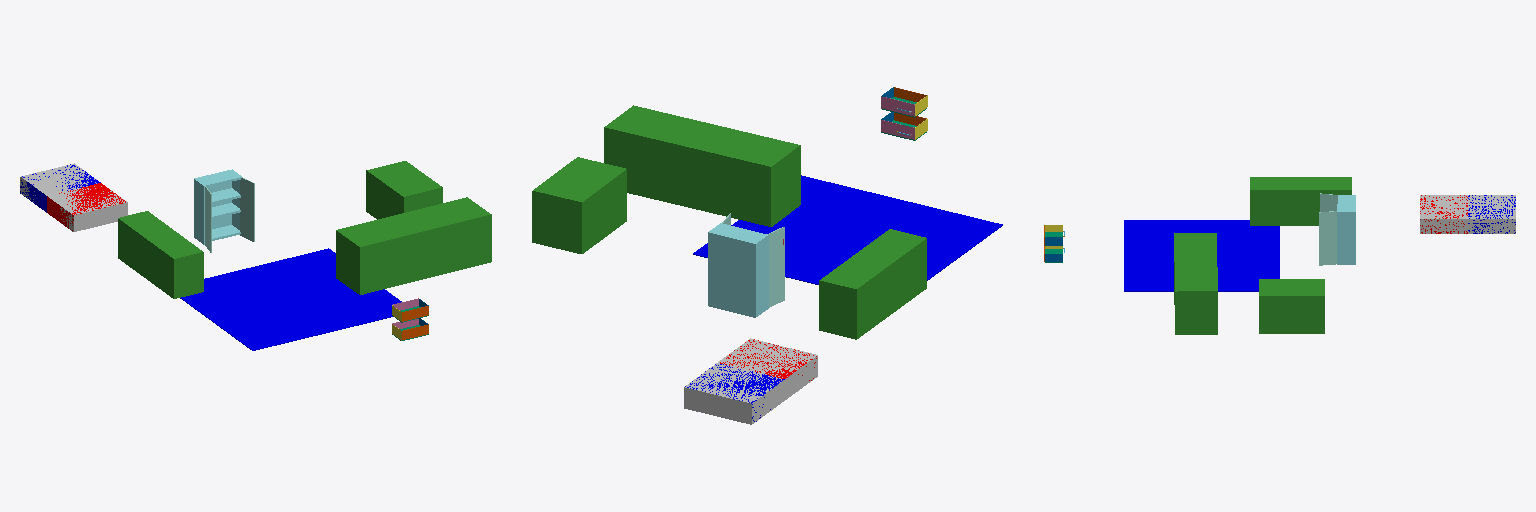
--- Facts derived from the render (not from the file) ---
The picture shows the robot from 3 angles, left to right: view 1: azimuth 30°, elevation 25°; view 2: azimuth 150°, elevation 25°; view 3: azimuth 270°, elevation 25°; orthographic projection.
Robot: iai-kitchen — 52 links, 51 joints (3 revolute, 2 prismatic, 46 fixed); root link urdf_main; default pose: every joint at zero.
Links seen in each view (by area): view 1: iai_kitchen:kitchen:room_center_link, table_kitchen_counter:table:table_center, popcorn_table:table:table_center, long_table:table:table_center, suturo_couch:couch:place1, suturo_couch:couch:place2, shelf:shelf:shelf_door_right, shelf:shelf:shelf_left_side, suturo_couch:couch:place3; view 2: table_kitchen_counter:table:table_center, iai_kitchen:kitchen:room_center_link, popcorn_table:table:table_center, long_table:table:table_center, suturo_couch:couch:place1, shelf:shelf:shelf_back, shelf:shelf:shelf_door_left, shelf:shelf:shelf_left_side, suturo_couch:couch:place3, suturo_couch:couch:place2, shelf:shelf:shelf_floor_3; view 3: iai_kitchen:kitchen:room_center_link, table_kitchen_counter:table:table_center, popcorn_table:table:table_center, long_table:table:table_center, suturo_couch:couch:place1, shelf:shelf:shelf_door_right, shelf:shelf:shelf_right_side.
Boxes of the visible links, <box> form: iai_kitchen:kitchen:room_center_link: <box>180,248,401,350</box>; table_kitchen_counter:table:table_center: <box>336,197,491,294</box>; popcorn_table:table:table_center: <box>118,211,203,298</box>; long_table:table:table_center: <box>366,161,442,219</box>; suturo_couch:couch:place1: <box>20,163,127,231</box>; suturo_couch:couch:place2: <box>47,183,125,230</box>; shelf:shelf:shelf_door_right: <box>240,177,254,241</box>; shelf:shelf:shelf_left_side: <box>194,179,204,244</box>; suturo_couch:couch:place3: <box>20,164,100,212</box>; table_kitchen_counter:table:table_center: <box>604,105,800,226</box>; iai_kitchen:kitchen:room_center_link: <box>693,175,1002,284</box>; popcorn_table:table:table_center: <box>819,229,926,339</box>; long_table:table:table_center: <box>532,157,626,253</box>; suturo_couch:couch:place1: <box>684,338,817,424</box>; shelf:shelf:shelf_back: <box>708,232,755,317</box>; shelf:shelf:shelf_door_left: <box>767,227,784,307</box>; shelf:shelf:shelf_left_side: <box>755,235,768,316</box>; suturo_couch:couch:place3: <box>685,364,784,421</box>; suturo_couch:couch:place2: <box>720,339,816,380</box>; shelf:shelf:shelf_floor_3: <box>710,223,768,245</box>; iai_kitchen:kitchen:room_center_link: <box>1124,220,1279,291</box>; table_kitchen_counter:table:table_center: <box>1174,233,1217,334</box>; popcorn_table:table:table_center: <box>1250,177,1351,225</box>; long_table:table:table_center: <box>1259,279,1324,333</box>; suturo_couch:couch:place1: <box>1420,195,1515,233</box>; shelf:shelf:shelf_door_right: <box>1319,211,1336,265</box>; shelf:shelf:shelf_right_side: <box>1337,211,1354,264</box>.
Bounding box of the posed robot: 5.23 × 8.35 × 1.09 m (x, y, z).
Meshes: 3 distinct files referenced, 0 mesh visuals loaded (none loaded); not drawn: 3 (reference not matched to a file when rendering).

URDF robot description (iai-kitchen):
<?xml version="1.0" ?>
<robot name="iai-kitchen" version="1.0">
  <material name="table_grey">
    <color rgba="0.255 0.62 0.223 1.0"/>
  </material>
  <material name="color_grey">
    <color rgba="0.8 0.8 0.8 1.0"/>
  </material>
  <material name="color_red">
    <color rgba="1.0 0.0 0.0 1.0"/>
  </material>
  <material name="color_blue">
    <color rgba="0.0 0.0 1.0 1.0"/>
  </material>
  <material name="round_table_grey">
    <color rgba="0.8 0.8 0.8 1.0"/>
  </material>
  <material name="wall_red">
    <color rgba="0.75 0.22 0.17 1.0"/>
  </material>
  <material name="shelf_blue">
    <color rgba="0.59 0.88 0.9 1.0"/>
  </material>
  <material name="shelf_door_green">
    <color rgba="0.64 0.87 0.82 1.0"/>
  </material>
  <material name="shelf_openable_handle_red">
    <color rgba="0.74 0.25 0.25 1.0"/>
  </material>
  <material name="door_green">
    <color rgba="0.0 0.31 0.22 1.0"/>
  </material>
  <material name="hinge_red">
    <color rgba="0.74 0.25 0.25 1.0"/>
  </material>
  <material name="handle_blue">
    <color rgba="0.3 0.5 0.78 1.0"/>
  </material>
  <material name="bucket_grey">
    <color rgba="0.8 0.8 0.8 1.0"/>
  </material>
  <material name="white">
    <color rgba="1.0 1.0 1.0 1.0"/>
  </material>
  <material name="orange">
    <color rgba="1.0 0.7 0.0 1.0"/>
  </material>
  <material name="handle_white">
    <color rgba="1.0 1.0 1.0 1.0"/>
  </material>
  <material name="bottom_white">
    <color rgba="1.0 1.0 1.0 1.0"/>
  </material>
  <material name="frame_wood">
    <color rgba="0.68 0.63 0.47 1.0"/>
  </material>
  <material name="handle_grey">
    <color rgba="0.7 0.7 0.7 1.0"/>
  </material>
  <link name="table_kitchen_counter:table:table_center">
    <visual>
      <origin xyz="0.0 0.0 -0.425" rpy="0.0 0.0 0.0"/>
      <geometry>
        <box size="0.76 2.45 0.85"/>
      </geometry>
      <material name="table_grey"/>
    </visual>
    <collision>
      <origin xyz="0.0 0.0 -0.425" rpy="0.0 0.0 0.0"/>
      <geometry>
        <box size="0.76 2.45 0.85"/>
      </geometry>
    </collision>
  </link>
  <link name="table_kitchen_counter:table:table_origin"/>
  <link name="table_kitchen_counter:table:table_front_edge_center"/>
  <joint name="table_kitchen_counter:table:table_origin_joint" type="fixed">
    <origin xyz="3.08 0.8 0.0" rpy="0.0 0.0 -1.56"/>
    <parent link="urdf_offset"/>
    <child link="table_kitchen_counter:table:table_origin"/>
  </joint>
  <joint name="table_kitchen_counter:table:center_joint" type="fixed">
    <origin xyz="0.38 1.225 0.85" rpy="0.0 0.0 0.0"/>
    <parent link="table_kitchen_counter:table:table_origin"/>
    <child link="table_kitchen_counter:table:table_center"/>
  </joint>
  <joint name="table_kitchen_counter:table:table_front_edge_center_joint" type="fixed">
    <origin xyz="0.0 1.225 0.85" rpy="0.0 0.0 0.0"/>
    <parent link="table_kitchen_counter:table:table_origin"/>
    <child link="table_kitchen_counter:table:table_front_edge_center"/>
  </joint>
  <link name="long_table:table:table_center">
    <visual>
      <origin xyz="0.0 0.0 -0.3675" rpy="0.0 0.0 0.0"/>
      <geometry>
        <box size="0.73 1.17 0.735"/>
      </geometry>
      <material name="table_grey"/>
    </visual>
    <collision>
      <origin xyz="0.0 0.0 -0.3675" rpy="0.0 0.0 0.0"/>
      <geometry>
        <box size="0.73 1.17 0.735"/>
      </geometry>
    </collision>
  </link>
  <link name="long_table:table:table_origin"/>
  <link name="long_table:table:table_front_edge_center"/>
  <joint name="long_table:table:table_origin_joint" type="fixed">
    <origin xyz="5.49 2.73 0.0" rpy="0.0 0.0 3.15"/>
    <parent link="urdf_offset"/>
    <child link="long_table:table:table_origin"/>
  </joint>
  <joint name="long_table:table:center_joint" type="fixed">
    <origin xyz="0.365 0.585 0.735" rpy="0.0 0.0 0.0"/>
    <parent link="long_table:table:table_origin"/>
    <child link="long_table:table:table_center"/>
  </joint>
  <joint name="long_table:table:table_front_edge_center_joint" type="fixed">
    <origin xyz="0.0 0.585 0.735" rpy="0.0 0.0 0.0"/>
    <parent link="long_table:table:table_origin"/>
    <child link="long_table:table:table_front_edge_center"/>
  </joint>
  <link name="popcorn_table:table:table_center">
    <visual>
      <origin xyz="0.0 0.0 -0.355" rpy="0.0 0.0 0.0"/>
      <geometry>
        <box size="0.55 1.8 0.71"/>
      </geometry>
      <material name="table_grey"/>
    </visual>
    <collision>
      <origin xyz="0.0 0.0 -0.355" rpy="0.0 0.0 0.0"/>
      <geometry>
        <box size="0.55 1.8 0.71"/>
      </geometry>
    </collision>
  </link>
  <link name="popcorn_table:table:table_origin"/>
  <link name="popcorn_table:table:table_front_edge_center"/>
  <joint name="popcorn_table:table:table_origin_joint" type="fixed">
    <origin xyz="0.435 1.4 0.0" rpy="0.0 0.0 0.0"/>
    <parent link="urdf_offset"/>
    <child link="popcorn_table:table:table_origin"/>
  </joint>
  <joint name="popcorn_table:table:center_joint" type="fixed">
    <origin xyz="0.275 0.9 0.71" rpy="0.0 0.0 0.0"/>
    <parent link="popcorn_table:table:table_origin"/>
    <child link="popcorn_table:table:table_center"/>
  </joint>
  <joint name="popcorn_table:table:table_front_edge_center_joint" type="fixed">
    <origin xyz="0.0 0.9 0.71" rpy="0.0 0.0 0.0"/>
    <parent link="popcorn_table:table:table_origin"/>
    <child link="popcorn_table:table:table_front_edge_center"/>
  </joint>
  <link name="suturo_couch:couch:place1">
    <visual>
      <origin xyz="0.0 0.0 0.15" rpy="0.0 0.0 0.0"/>
      <geometry>
        <box size="1.0 1.7 0.3"/>
      </geometry>
      <material name="color_grey"/>
    </visual>
    <collision>
      <origin xyz="0.0 0.0 0.0" rpy="0.0 0.0 0.0"/>
      <geometry>
        <box size="1.0 1.7 0.3"/>
      </geometry>
    </collision>
  </link>
  <link name="suturo_couch:couch:place2">
    <visual>
      <origin xyz="0.0 -0.425 0.15" rpy="0.0 0.0 0.0"/>
      <geometry>
        <box size="1.0 0.85 0.3"/>
      </geometry>
      <material name="color_red"/>
    </visual>
    <collision>
      <origin xyz="0.0 0.0 0.0" rpy="0.0 0.0 0.0"/>
      <geometry>
        <box size="1.0 1.7 0.3"/>
      </geometry>
    </collision>
  </link>
  <link name="suturo_couch:couch:place3">
    <visual>
      <origin xyz="0.0 0.425 0.15" rpy="0.0 0.0 0.0"/>
      <geometry>
        <box size="1.0 0.85 0.3"/>
      </geometry>
      <material name="color_blue"/>
    </visual>
    <collision>
      <origin xyz="0.0 0.0 -0.15" rpy="0.0 0.0 0.0"/>
      <geometry>
        <box size="1.0 1.7 0.3"/>
      </geometry>
    </collision>
  </link>
  <joint name="suturo_couch:couch:couch_origin_joint" type="fixed">
    <origin xyz="0.81 5.25 0.0" rpy="0.0 0.0 0.0"/>
    <parent link="urdf_offset"/>
    <child link="suturo_couch:couch:place1"/>
  </joint>
  <joint name="suturo_couch:couch:couch_left_joint" type="fixed">
    <origin xyz="0.0 0.0 0.0" rpy="0.0 0.0 0.0"/>
    <parent link="suturo_couch:couch:place1"/>
    <child link="suturo_couch:couch:place2"/>
  </joint>
  <joint name="suturo_couch:couch:couch_right_joint" type="fixed">
    <origin xyz="0.0 0.0 0.0" rpy="0.0 0.0 0.0"/>
    <parent link="suturo_couch:couch:place1"/>
    <child link="suturo_couch:couch:place3"/>
  </joint>
  <link name="shelf:shelf:shelf_origin"/>
  <link name="shelf:shelf:shelf_center"/>
  <link name="shelf:shelf:shelf_base_center"/>
  <joint name="shelf:shelf:shelf_origin_joint" type="fixed">
    <origin xyz="2.59 2.94 0.0" rpy="0.0 0.0 1.56"/>
    <parent link="urdf_offset"/>
    <child link="shelf:shelf:shelf_origin"/>
  </joint>
  <joint name="shelf:shelf:shelf_center_joint" type="fixed">
    <origin xyz="0.16 0.355 0.52" rpy="0.0 0.0 0.0"/>
    <parent link="shelf:shelf:shelf_origin"/>
    <child link="shelf:shelf:shelf_center"/>
  </joint>
  <joint name="shelf:shelf:shelf_base_center_joint" type="fixed">
    <origin xyz="0.16 0.355 0.0" rpy="0.0 0.0 0.0"/>
    <parent link="shelf:shelf:shelf_origin"/>
    <child link="shelf:shelf:shelf_base_center"/>
  </joint>
  <link name="shelf:shelf:shelf_back">
    <visual>
      <origin xyz="0.0 0.0 0.0" rpy="0.0 0.0 0.0"/>
      <geometry>
        <box size="0.015 0.71 1.04"/>
      </geometry>
      <material name="shelf_blue"/>
    </visual>
    <collision>
      <origin xyz="0.0 0.0 0.0" rpy="0.0 0.0 0.0"/>
      <geometry>
        <box size="0.015 0.71 1.04"/>
      </geometry>
    </collision>
  </link>
  <joint name="shelf:shelf:shelf_back:joint" type="fixed">
    <origin xyz="0.32 0.355 0.52" rpy="0.0 0.0 0.0"/>
    <parent link="shelf:shelf:shelf_origin"/>
    <child link="shelf:shelf:shelf_back"/>
  </joint>
  <link name="shelf:shelf:shelf_right_side">
    <visual>
      <origin xyz="0.0 0.0 0.0" rpy="0.0 0.0 0.0"/>
      <geometry>
        <box size="0.32 0.015 1.04"/>
      </geometry>
      <material name="shelf_blue"/>
    </visual>
    <collision>
      <origin xyz="0.0 0.0 0.0" rpy="0.0 0.0 0.0"/>
      <geometry>
        <box size="0.32 0.015 1.04"/>
      </geometry>
    </collision>
  </link>
  <joint name="shelf:shelf:shelf_right_side:joint" type="fixed">
    <origin xyz="0.16 0.0075 0.52" rpy="0.0 0.0 0.0"/>
    <parent link="shelf:shelf:shelf_origin"/>
    <child link="shelf:shelf:shelf_right_side"/>
  </joint>
  <link name="shelf:shelf:shelf_left_side">
    <visual>
      <origin xyz="0.0 0.0 0.0" rpy="0.0 0.0 0.0"/>
      <geometry>
        <box size="0.32 0.015 1.04"/>
      </geometry>
      <material name="shelf_blue"/>
    </visual>
    <collision>
      <origin xyz="0.0 0.0 0.0" rpy="0.0 0.0 0.0"/>
      <geometry>
        <box size="0.32 0.015 1.04"/>
      </geometry>
    </collision>
  </link>
  <joint name="shelf:shelf:shelf_left_side:joint" type="fixed">
    <origin xyz="0.16 0.7025 0.52" rpy="0.0 0.0 0.0"/>
    <parent link="shelf:shelf:shelf_origin"/>
    <child link="shelf:shelf:shelf_left_side"/>
  </joint>
  <link name="shelf:shelf:shelf_floor_0">
    <visual>
      <origin xyz="0.0 0.0 -0.02" rpy="0.0 0.0 0.0"/>
      <geometry>
        <box size="0.32 0.71 0.04"/>
      </geometry>
      <material name="shelf_blue"/>
    </visual>
    <collision>
      <origin xyz="0.0 0.0 -0.02" rpy="0.0 0.0 0.0"/>
      <geometry>
        <box size="0.32 0.71 0.04"/>
      </geometry>
    </collision>
  </link>
  <joint name="shelf:shelf:shelf_floor_0:joint" type="fixed">
    <origin xyz="0.0 0.0 0.07" rpy="0.0 0.0 0.0"/>
    <parent link="shelf:shelf:shelf_base_center"/>
    <child link="shelf:shelf:shelf_floor_0"/>
  </joint>
  <link name="shelf:shelf:shelf_floor_1">
    <visual>
      <origin xyz="0.0 0.0 -0.02" rpy="0.0 0.0 0.0"/>
      <geometry>
        <box size="0.32 0.71 0.04"/>
      </geometry>
      <material name="shelf_blue"/>
    </visual>
    <collision>
      <origin xyz="0.0 0.0 -0.02" rpy="0.0 0.0 0.0"/>
      <geometry>
        <box size="0.32 0.71 0.04"/>
      </geometry>
    </collision>
  </link>
  <joint name="shelf:shelf:shelf_floor_1:joint" type="fixed">
    <origin xyz="0.0 0.0 0.46" rpy="0.0 0.0 0.0"/>
    <parent link="shelf:shelf:shelf_base_center"/>
    <child link="shelf:shelf:shelf_floor_1"/>
  </joint>
  <link name="shelf:shelf:shelf_floor_2">
    <visual>
      <origin xyz="0.0 0.0 -0.02" rpy="0.0 0.0 0.0"/>
      <geometry>
        <box size="0.32 0.71 0.04"/>
      </geometry>
      <material name="shelf_blue"/>
    </visual>
    <collision>
      <origin xyz="0.0 0.0 -0.02" rpy="0.0 0.0 0.0"/>
      <geometry>
        <box size="0.32 0.71 0.04"/>
      </geometry>
    </collision>
  </link>
  <joint name="shelf:shelf:shelf_floor_2:joint" type="fixed">
    <origin xyz="0.0 0.0 0.72" rpy="0.0 0.0 0.0"/>
    <parent link="shelf:shelf:shelf_base_center"/>
    <child link="shelf:shelf:shelf_floor_2"/>
  </joint>
  <link name="shelf:shelf:shelf_floor_3">
    <visual>
      <origin xyz="0.0 0.0 -0.02" rpy="0.0 0.0 0.0"/>
      <geometry>
        <box size="0.32 0.71 0.04"/>
      </geometry>
      <material name="shelf_blue"/>
    </visual>
    <collision>
      <origin xyz="0.0 0.0 -0.02" rpy="0.0 0.0 0.0"/>
      <geometry>
        <box size="0.32 0.71 0.04"/>
      </geometry>
    </collision>
  </link>
  <joint name="shelf:shelf:shelf_floor_3:joint" type="fixed">
    <origin xyz="0.0 0.0 1.04" rpy="0.0 0.0 0.0"/>
    <parent link="shelf:shelf:shelf_base_center"/>
    <child link="shelf:shelf:shelf_floor_3"/>
  </joint>
  <link name="shelf:shelf:shelf_door_right">
    <visual>
      <origin xyz="0.0 0.16249999999999998 0.0" rpy="0.0 0.0 0.0"/>
      <geometry>
        <box size="0.015 0.33999999999999997 1.04"/>
      </geometry>
      <material name="shelf_door_green"/>
    </visual>
    <collision>
      <origin xyz="0.0 0.16249999999999998 0.0" rpy="0.0 0.0 0.0"/>
      <geometry>
        <box size="0.015 0.33999999999999997 1.04"/>
      </geometry>
    </collision>
  </link>
  <link name="shelf:shelf:shelf_door_right:handle">
    <visual>
      <origin xyz="0.0 0.0 0.0" rpy="0.0 0.0 0.0"/>
      <geometry>
        <box size="0.0 0.01 0.084"/>
      </geometry>
      <material name="shelf_openable_handle_red"/>
    </visual>
    <collision>
      <origin xyz="0.0 0.0 0.0" rpy="0.0 0.0 0.0"/>
      <geometry>
        <box size="0.0 0.01 0.084"/>
      </geometry>
    </collision>
  </link>
  <joint name="shelf:shelf:shelf_door_right:handle_joint" type="fixed">
    <origin xyz="-0.015 0.305 0.317" rpy="0.0 0.0 0.0"/>
    <axis xyz="0.0 0.0 1.0"/>
    <parent link="shelf:shelf:shelf_door_right"/>
    <child link="shelf:shelf:shelf_door_right:handle"/>
  </joint>
  <joint name="shelf:shelf:shelf_door_right:joint" type="revolute">
    <origin xyz="-0.1525 0.015 0.0" rpy="0.0 0.0 1.77"/>
    <axis xyz="0.0 0.0 1.0"/>
    <parent link="shelf:shelf:shelf_right_side"/>
    <child link="shelf:shelf:shelf_door_right"/>
    <limit effort="30.0" lower="0.0" upper="1.7" velocity="1.0"/>
  </joint>
  <link name="shelf:shelf:shelf_door_left">
    <visual>
      <origin xyz="0.0 -0.16249999999999998 0.0" rpy="0.0 0.0 0.0"/>
      <geometry>
        <box size="0.015 0.33999999999999997 1.04"/>
      </geometry>
      <material name="shelf_door_green"/>
    </visual>
    <collision>
      <origin xyz="0.0 -0.16249999999999998 0.0" rpy="0.0 0.0 0.0"/>
      <geometry>
        <box size="0.015 0.33999999999999997 1.04"/>
      </geometry>
    </collision>
  </link>
  <link name="shelf:shelf:shelf_door_left:handle">
    <visual>
      <origin xyz="0.0 0.0 0.0" rpy="0.0 0.0 0.0"/>
      <geometry>
        <box size="0.0 0.01 0.084"/>
      </geometry>
      <material name="shelf_openable_handle_red"/>
    </visual>
    <collision>
      <origin xyz="0.0 0.0 0.0" rpy="0.0 0.0 0.0"/>
      <geometry>
        <box size="0.0 0.01 0.084"/>
      </geometry>
    </collision>
  </link>
  <joint name="shelf:shelf:shelf_door_left:handle_joint" type="fixed">
    <origin xyz="-0.015 -0.305 0.317" rpy="0.0 0.0 0.0"/>
    <axis xyz="0.0 0.0 1.0"/>
    <parent link="shelf:shelf:shelf_door_left"/>
    <child link="shelf:shelf:shelf_door_left:handle"/>
  </joint>
  <joint name="shelf:shelf:shelf_door_left:joint" type="revolute">
    <origin xyz="-0.1525 -0.015 0.0" rpy="0.0 0.0 -1.77"/>
    <axis xyz="0.0 0.0 1.0"/>
    <parent link="shelf:shelf:shelf_left_side"/>
    <child link="shelf:shelf:shelf_door_left"/>
    <limit effort="30.0" lower="-1.7" upper="0.0" velocity="1.0"/>
  </joint>
  <joint name="world_iai_kitchen:kitchen:room_joint" type="fixed">
    <origin xyz="2.1 0.54 -0.05" rpy="0.0 0.0 0.0"/>
    <parent link="urdf_offset"/>
    <child link="iai_kitchen:kitchen:room_center_link"/>
  </joint>
  <link name="iai_kitchen:kitchen:room_center_link">
    <visual>
      <geometry>
        <box size="3.0 2.75 0.01"/>
      </geometry>
      <material name="iai_kitchen:kitchen:color">
        <color rgba="0.0 0.0 1.0 0.5"/>
      </material>
    </visual>
    <collision>
      <geometry>
        <box size="3.0 2.75 0.01"/>
      </geometry>
    </collision>
  </link>
  <joint name="room_kitchen_entry_exit:entry_exit:connection_joint" type="fixed">
    <origin xyz="-1.4000000000000001 -0.45000000000000007 0.0" rpy="0.0 0.0 0.0"/>
    <parent link="iai_kitchen:kitchen:room_center_link"/>
    <child link="kitchen_entry_exit:entry_exit:link"/>
  </joint>
  <link name="kitchen_entry_exit:entry_exit:link"/>
  <joint name="world_arena:arena:room_joint" type="fixed">
    <origin xyz="2.1 0.54 -0.05" rpy="0.0 0.0 0.0"/>
    <parent link="urdf_offset"/>
    <child link="arena:arena:room_center_link"/>
  </joint>
  <link name="arena:arena:room_center_link">
    <visual>
      <geometry>
        <box size="3.0 2.75 0.01"/>
      </geometry>
      <material name="arena:arena:color">
        <color rgba="1.0 0.0 0.0 0.1"/>
      </material>
    </visual>
    <collision>
      <geometry>
        <box size="3.0 2.75 0.01"/>
      </geometry>
    </collision>
  </link>
  <joint name="room_arena_entry_exit:entry_exit:connection_joint" type="fixed">
    <origin xyz="-1.4000000000000001 -0.45000000000000007 0.0" rpy="0.0 0.0 0.0"/>
    <parent link="arena:arena:room_center_link"/>
    <child link="arena_entry_exit:entry_exit:link"/>
  </joint>
  <link name="arena_entry_exit:entry_exit:link"/>
  <link name="dishwasher:dishwasher:dishwasher_main">
    <inertial>
      <origin xyz="0.0 0.0 0.0" rpy="0.0 0.0 0.0"/>
      <mass value="1.0"/>
      <inertia ixx="1.0" ixy="0.0" ixz="0.0" iyy="1.0" iyz="0.0" izz="1.0"/>
    </inertial>
    <visual>
      <origin xyz="0.0 0.0 0.148" rpy="0.0 0.0 3.141592653589793"/>
      <geometry>
        <mesh filename="package://iai_kitchen/meshes/misc/DishWasher.dae" scale="1.1 1.2 1.1"/>
      </geometry>
    </visual>
    <collision>
      <origin xyz="0.0 0.0 0.148" rpy="0.0 0.0 0.0"/>
      <geometry>
        <mesh filename="package://iai_kitchen/meshes/misc/DishWasher.obj" scale="1.1 1.2 1.1"/>
      </geometry>
    </collision>
  </link>
  <link name="dishwasher:dishwasher:dishwasher_door">
    <inertial>
      <origin xyz="0.0 0.0 0.0" rpy="0.0 0.0 0.0"/>
      <mass value="1.0"/>
      <inertia ixx="1.0" ixy="0.0" ixz="0.0" iyy="1.0" iyz="0.0" izz="1.0"/>
    </inertial>
    <visual>
      <origin xyz="0.0 -0.108 0.0" rpy="1.5707963267948966 0.0 0.0"/>
      <geometry>
        <mesh filename="package://iai_kitchen/meshes/misc/DishWasherDoor.dae"/>
      </geometry>
    </visual>
    <collision>
      <origin xyz="0.0 -0.108 0.0" rpy="1.5707963267948966 0.0 0.0"/>
      <geometry>
        <mesh filename="package://iai_kitchen/meshes/misc/DishWasherDoor.obj"/>
      </geometry>
    </collision>
  </link>
  <link name="dishwasher:dishwasher:dishwasher_door_handle">
    <inertial>
      <origin xyz="0.0 0.0 0.0" rpy="0.0 0.0 0.0"/>
      <mass value="1.0"/>
      <inertia ixx="1.0" ixy="0.0" ixz="0.0" iyy="1.0" iyz="0.0" izz="1.0"/>
    </inertial>
    <visual>
      <origin xyz="0.0 0.0 0.0" rpy="0.0 3.141592653589793 0.0"/>
      <geometry>
        <mesh filename="package://iai_kitchen/meshes/handles/Handle60.dae"/>
      </geometry>
    </visual>
    <collision>
      <origin xyz="0.0 0.0 0.0" rpy="0.0 3.141592653589793 0.0"/>
      <geometry>
        <mesh filename="package://iai_kitchen/meshes/handles/Handle60.obj"/>
      </geometry>
    </collision>
  </link>
  <link name="dishwasher:dishwasher:dishwasher_tab"/>
  <joint name="dishwasher:dishwasher:dishwasher_tab_joint" type="fixed">
    <origin xyz="0.18 -0.33 0.1775" rpy="0.0 0.0 0.0"/>
    <parent link="dishwasher:dishwasher:dishwasher_door"/>
    <child link="dishwasher:dishwasher:dishwasher_tab"/>
  </joint>
  <joint name="dishwasher:dishwasher:dishwasher_main_joint" type="fixed">
    <origin xyz="2.79 -2.17 0.33475" rpy="0.0 0.0 -1.5708"/>
    <parent link="urdf_offset"/>
    <child link="dishwasher:dishwasher:dishwasher_main"/>
  </joint>
  <joint name="dishwasher:dishwasher:dishwasher_door_joint" type="revolute">
    <origin xyz="-0.27 0.0 -0.285" rpy="-1.5707963267948966 0.0 0.0"/>
    <axis xyz="0.0 0.0 1.0"/>
    <parent link="dishwasher:dishwasher:dishwasher_main"/>
    <child link="dishwasher:dishwasher:dishwasher_door"/>
    <limit effort="300.0" lower="-1.5707963267948966" upper="0.0" velocity="10.0"/>
  </joint>
  <joint name="dishwasher:dishwasher:dishwasher_door_handle_joint" type="fixed">
    <origin xyz="-0.065 -0.728 0.0" rpy="1.5707963267948966 0.0 0.0"/>
    <parent link="dishwasher:dishwasher:dishwasher_door"/>
    <child link="dishwasher:dishwasher:dishwasher_door_handle"/>
  </joint>
  <joint name="dishwasher:dishwasher:dishwasher_tray_main" type="prismatic">
    <origin xyz="-0.08 0.0 0.26" rpy="0 0 0"/>
    <axis xyz="1.0 0.0 0.0"/>
    <parent link="dishwasher:dishwasher:dishwasher_main"/>
    <child link="dishwasher:dishwasher:dishwasher_tray_bottom"/>
    <limit effort="300.0" lower="-0.33" upper="0.0" velocity="10.0"/>
  </joint>
  <link name="dishwasher:dishwasher:dishwasher_tray_bottom">
    <visual>
      <geometry>
        <box size="0.32 0.5 0.05"/>
      </geometry>
    </visual>
    <collision>
      <geometry>
        <box size="0.32 0.5 0.05"/>
      </geometry>
    </collision>
  </link>
  <link name="dishwasher:dishwasher:dishwasher_tray_left_side">
    <visual>
      <geometry>
        <box size="0.32 0.005 0.17"/>
      </geometry>
    </visual>
    <collision>
      <geometry>
        <box size="0.32 0.005 0.17"/>
      </geometry>
    </collision>
  </link>
  <link name="dishwasher:dishwasher:dishwasher_tray_right_side">
    <visual>
      <geometry>
        <box size="0.32 0.005 0.17"/>
      </geometry>
    </visual>
    <collision>
      <geometry>
        <box size="0.32 0.005 0.17"/>
      </geometry>
    </collision>
  </link>
  <link name="dishwasher:dishwasher:dishwasher_tray_back_side">
    <visual>
      <geometry>
        <box size="0.005 0.5 0.17"/>
      </geometry>
    </visual>
    <collision>
      <geometry>
        <box size="0.005 0.5 0.17"/>
      </geometry>
    </collision>
  </link>
  <link name="dishwasher:dishwasher:dishwasher_tray_front_side">
    <visual>
      <geometry>
        <box size="0.005 0.5 0.17"/>
      </geometry>
    </visual>
    <collision>
      <geometry>
        <box size="0.005 0.5 0.17"/>
      </geometry>
    </collision>
  </link>
  <joint name="dishwasher:dishwasher:dishwasher_tray_bottom_left" type="fixed">
    <origin xyz="-0.0 -0.25 0.075" rpy="0 0 0"/>
    <parent link="dishwasher:dishwasher:dishwasher_tray_bottom"/>
    <child link="dishwasher:dishwasher:dishwasher_tray_left_side"/>
  </joint>
  <joint name="dishwasher:dishwasher:dishwasher_tray_bottom_right" type="fixed">
    <origin xyz="-0.0 0.25 0.075" rpy="0 0 0"/>
    <parent link="dishwasher:dishwasher:dishwasher_tray_bottom"/>
    <child link="dishwasher:dishwasher:dishwasher_tray_right_side"/>
  </joint>
  <joint name="dishwasher:dishwasher:dishwasher_tray_bottom_back" type="fixed">
    <origin xyz="0.16 0.0 0.075" rpy="0 0 0"/>
    <parent link="dishwasher:dishwasher:dishwasher_tray_bottom"/>
    <child link="dishwasher:dishwasher:dishwasher_tray_back_side"/>
  </joint>
  <joint name="dishwasher:dishwasher:dishwasher_tray_bottom_front" type="fixed">
    <origin xyz="-0.16 0.0 0.075" rpy="0.0 0.0 0.0"/>
    <parent link="dishwasher:dishwasher:dishwasher_tray_bottom"/>
    <child link="dishwasher:dishwasher:dishwasher_tray_front_side"/>
  </joint>
  <joint name="dishwasher:dishwasher:dishwasher_tray_handle_joint" type="fixed">
    <origin xyz="-0.03 -0.1 -0.02" rpy="0 0 0"/>
    <parent link="dishwasher:dishwasher:dishwasher_tray_front_side"/>
    <child link="dishwasher:dishwasher:dishwasher_tray_handle_front_side"/>
  </joint>
  <link name="dishwasher:dishwasher:dishwasher_tray_handle_left_side">
    <visual>
      <geometry>
        <box size="0.03 0.01 0.01"/>
      </geometry>
    </visual>
    <collision>
      <geometry>
        <box size="0.03 0.01 0.01"/>
      </geometry>
    </collision>
  </link>
  <link name="dishwasher:dishwasher:dishwasher_tray_handle_right_side">
    <visual>
      <geometry>
        <box size="0.03 0.01 0.01"/>
      </geometry>
    </visual>
    <collision>
      <geometry>
        <box size="0.03 0.01 0.01"/>
      </geometry>
    </collision>
  </link>
  <link name="dishwasher:dishwasher:dishwasher_tray_handle_front_side">
    <visual>
      <geometry>
        <box size="0.01 0.2 0.01"/>
      </geometry>
    </visual>
    <collision>
      <geometry>
        <box size="0.01 0.2 0.01"/>
      </geometry>
    </collision>
  </link>
  <joint name="dishwasher:dishwasher:dishwasher_tray_handle_front_left_joint" type="fixed">
    <origin xyz="0.01 -0.1 0.0" rpy="0 0 0"/>
    <parent link="dishwasher:dishwasher:dishwasher_tray_handle_front_side"/>
    <child link="dishwasher:dishwasher:dishwasher_tray_handle_left_side"/>
  </joint>
  <joint name="dishwasher:dishwasher:dishwasher_tray_handle_front_right_joint" type="fixed">
    <origin xyz="0.01 0.1 0.0" rpy="0 0 0"/>
    <parent link="dishwasher:dishwasher:dishwasher_tray_handle_front_side"/>
    <child link="dishwasher:dishwasher:dishwasher_tray_handle_right_side"/>
  </joint>
  <joint name="dishwasher:dishwasher:dishwasher_tray_2_main" type="prismatic">
    <origin xyz="-0.08 0.0 -0.07" rpy="0 0 0"/>
    <axis xyz="1.0 0.0 0.0"/>
    <parent link="dishwasher:dishwasher:dishwasher_main"/>
    <child link="dishwasher:dishwasher:dishwasher_tray_2_bottom"/>
    <limit effort="300.0" lower="-0.33" upper="0.0" velocity="10.0"/>
  </joint>
  <link name="dishwasher:dishwasher:dishwasher_tray_2_bottom">
    <visual>
      <geometry>
        <box size="0.32 0.5 0.05"/>
      </geometry>
    </visual>
    <collision>
      <geometry>
        <box size="0.32 0.5 0.05"/>
      </geometry>
    </collision>
  </link>
  <link name="dishwasher:dishwasher:dishwasher_tray_2_left_side">
    <visual>
      <geometry>
        <box size="0.32 0.005 0.17"/>
      </geometry>
    </visual>
    <collision>
      <geometry>
        <box size="0.32 0.005 0.17"/>
      </geometry>
    </collision>
  </link>
  <link name="dishwasher:dishwasher:dishwasher_tray_2_right_side">
    <visual>
      <geometry>
        <box size="0.32 0.005 0.17"/>
      </geometry>
    </visual>
    <collision>
      <geometry>
        <box size="0.32 0.005 0.17"/>
      </geometry>
    </collision>
  </link>
  <link name="dishwasher:dishwasher:dishwasher_tray_2_back_side">
    <visual>
      <geometry>
        <box size="0.005 0.5 0.17"/>
      </geometry>
    </visual>
    <collision>
      <geometry>
        <box size="0.005 0.5 0.17"/>
      </geometry>
    </collision>
  </link>
  <link name="dishwasher:dishwasher:dishwasher_tray_2_front_side">
    <visual>
      <geometry>
        <box size="0.005 0.5 0.17"/>
      </geometry>
    </visual>
    <collision>
      <geometry>
        <box size="0.005 0.5 0.17"/>
      </geometry>
    </collision>
  </link>
  <joint name="dishwasher:dishwasher:dishwasher_tray_2_bottom_left" type="fixed">
    <origin xyz="-0.0 -0.25 0.075" rpy="0 0 0"/>
    <parent link="dishwasher:dishwasher:dishwasher_tray_2_bottom"/>
    <child link="dishwasher:dishwasher:dishwasher_tray_2_left_side"/>
  </joint>
  <joint name="dishwasher:dishwasher:dishwasher_tray_2_bottom_right" type="fixed">
    <origin xyz="-0.0 0.25 0.075" rpy="0 0 0"/>
    <parent link="dishwasher:dishwasher:dishwasher_tray_2_bottom"/>
    <child link="dishwasher:dishwasher:dishwasher_tray_2_right_side"/>
  </joint>
  <joint name="dishwasher:dishwasher:dishwasher_tray_2_bottom_back" type="fixed">
    <origin xyz="0.16 0.0 0.075" rpy="0 0 0"/>
    <parent link="dishwasher:dishwasher:dishwasher_tray_2_bottom"/>
    <child link="dishwasher:dishwasher:dishwasher_tray_2_back_side"/>
  </joint>
  <joint name="dishwasher:dishwasher:dishwasher_tray_2_bottom_front" type="fixed">
    <origin xyz="-0.16 0.0 0.075" rpy="0.0 0.0 0.0"/>
    <parent link="dishwasher:dishwasher:dishwasher_tray_2_bottom"/>
    <child link="dishwasher:dishwasher:dishwasher_tray_2_front_side"/>
  </joint>
  <joint name="dishwasher:dishwasher:dishwasher_tray_2_handle_joint" type="fixed">
    <origin xyz="-0.03 -0.1 -0.02" rpy="0 0 0"/>
    <parent link="dishwasher:dishwasher:dishwasher_tray_2_front_side"/>
    <child link="dishwasher:dishwasher:dishwasher_tray_2_handle_front_side"/>
  </joint>
  <link name="dishwasher:dishwasher:dishwasher_tray_2_handle_left_side">
    <visual>
      <geometry>
        <box size="0.03 0.01 0.01"/>
      </geometry>
    </visual>
    <collision>
      <geometry>
        <box size="0.03 0.01 0.01"/>
      </geometry>
    </collision>
  </link>
  <link name="dishwasher:dishwasher:dishwasher_tray_2_handle_right_side">
    <visual>
      <geometry>
        <box size="0.03 0.01 0.01"/>
      </geometry>
    </visual>
    <collision>
      <geometry>
        <box size="0.03 0.01 0.01"/>
      </geometry>
    </collision>
  </link>
  <link name="dishwasher:dishwasher:dishwasher_tray_2_handle_front_side">
    <visual>
      <geometry>
        <box size="0.01 0.2 0.01"/>
      </geometry>
    </visual>
    <collision>
      <geometry>
        <box size="0.01 0.2 0.01"/>
      </geometry>
    </collision>
  </link>
  <joint name="dishwasher:dishwasher:dishwasher_tray_2_handle_front_left_joint" type="fixed">
    <origin xyz="0.01 -0.1 0.0" rpy="0 0 0"/>
    <parent link="dishwasher:dishwasher:dishwasher_tray_2_handle_front_side"/>
    <child link="dishwasher:dishwasher:dishwasher_tray_2_handle_left_side"/>
  </joint>
  <joint name="dishwasher:dishwasher:dishwasher_tray_2_handle_front_right_joint" type="fixed">
    <origin xyz="0.01 0.1 0.0" rpy="0 0 0"/>
    <parent link="dishwasher:dishwasher:dishwasher_tray_2_handle_front_side"/>
    <child link="dishwasher:dishwasher:dishwasher_tray_2_handle_right_side"/>
  </joint>
  <link name="urdf_main"/>
  <joint name="map_urdf_joint" type="fixed">
    <origin xyz="0.0 0.0 0.0" rpy="0.0 0.0 0.0"/>
    <parent link="urdf_main"/>
    <child link="urdf_offset"/>
  </joint>
  <link name="urdf_offset"/>
</robot>
